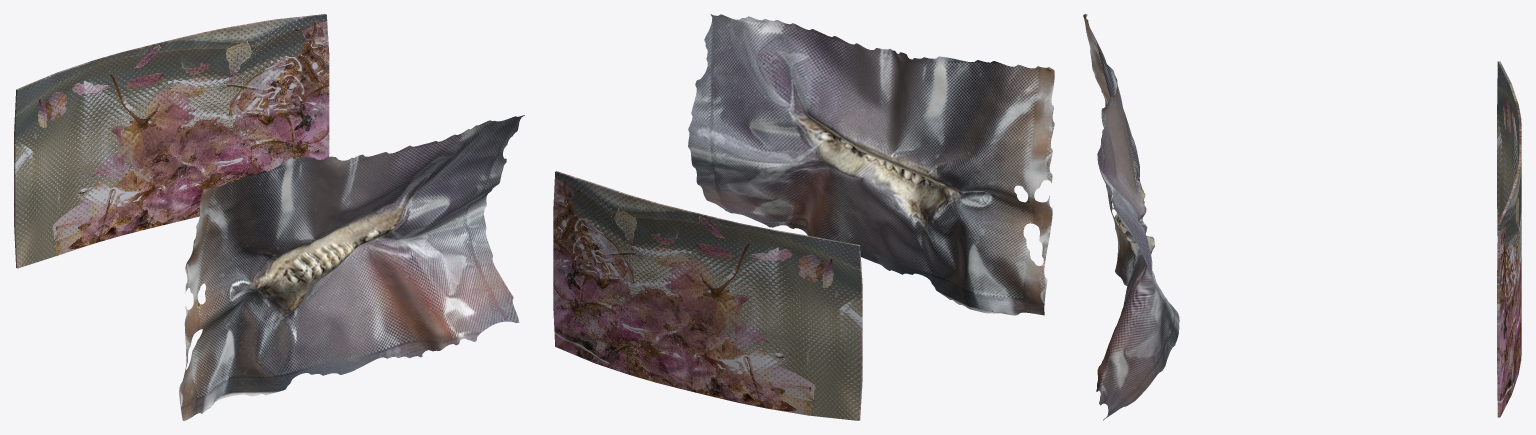
The model's file is wald_iii.glb.
3 renders of one model, left to right at view 1: azimuth 30°, elevation 25°; view 2: azimuth 150°, elevation 25°; view 3: azimuth 270°, elevation 25°, orthographic. The views are drawn at different scales.
Parts seen in each view (by area): view 1: vt_knochen_low_02, videotarget; view 2: vt_knochen_low_02, videotarget; view 3: vt_knochen_low_02, videotarget.
Boxes of the visible parts, <box> form: vt_knochen_low_02: <box>179,115,524,420</box>; videotarget: <box>14,14,329,268</box>; vt_knochen_low_02: <box>688,14,1054,315</box>; videotarget: <box>553,171,862,420</box>; vt_knochen_low_02: <box>1083,14,1179,420</box>; videotarget: <box>1497,61,1521,417</box>.
Size of the model in its own units: 2.9 by 1.96 by 2.95.
Materials: 2 (2 with a texture image).
